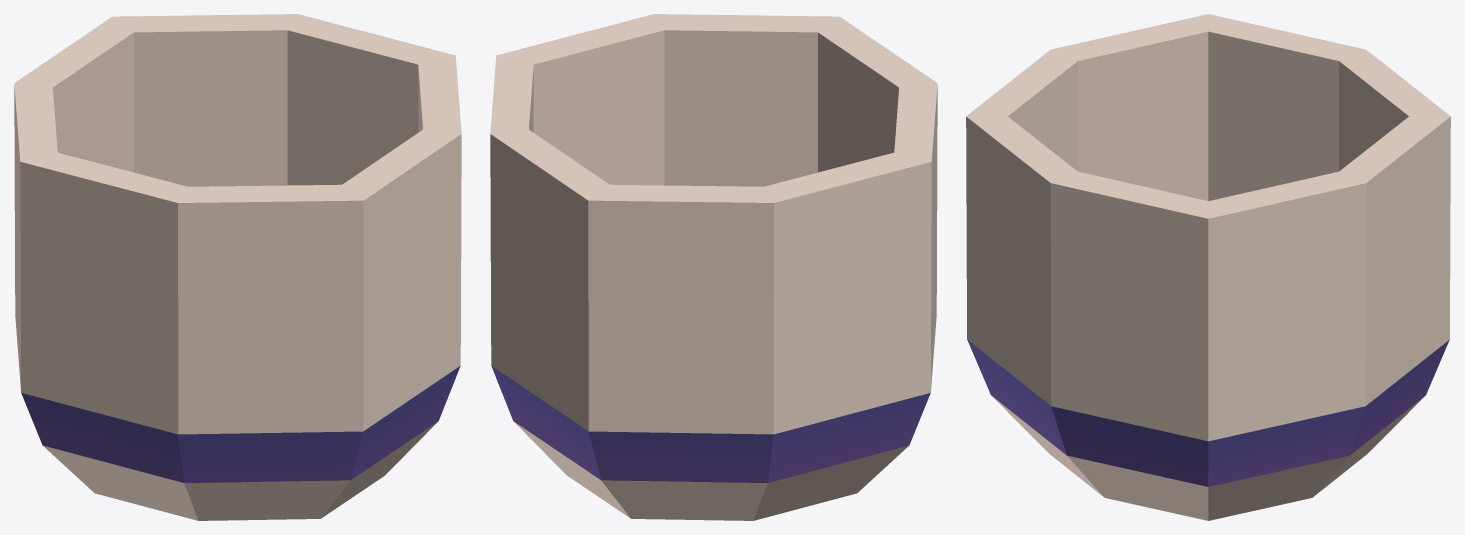
Rendered from PlantPot_43.fbx.
The picture shows the model from 3 angles, left to right: view 1: azimuth 30°, elevation 25°; view 2: azimuth 150°, elevation 25°; view 3: azimuth 270°, elevation 25°; orthographic projection. The views are drawn at different scales.
Parts seen in each view (by area): view 1: PlantPot_43; view 2: PlantPot_43; view 3: PlantPot_43.
Part boxes in pixels (x1,y1,x2,y2): PlantPot_43: (14,14,461,520); PlantPot_43: (490,14,937,520); PlantPot_43: (966,14,1450,520).
Size of the model in its own units: 26.05 by 20.02 by 26.05.
